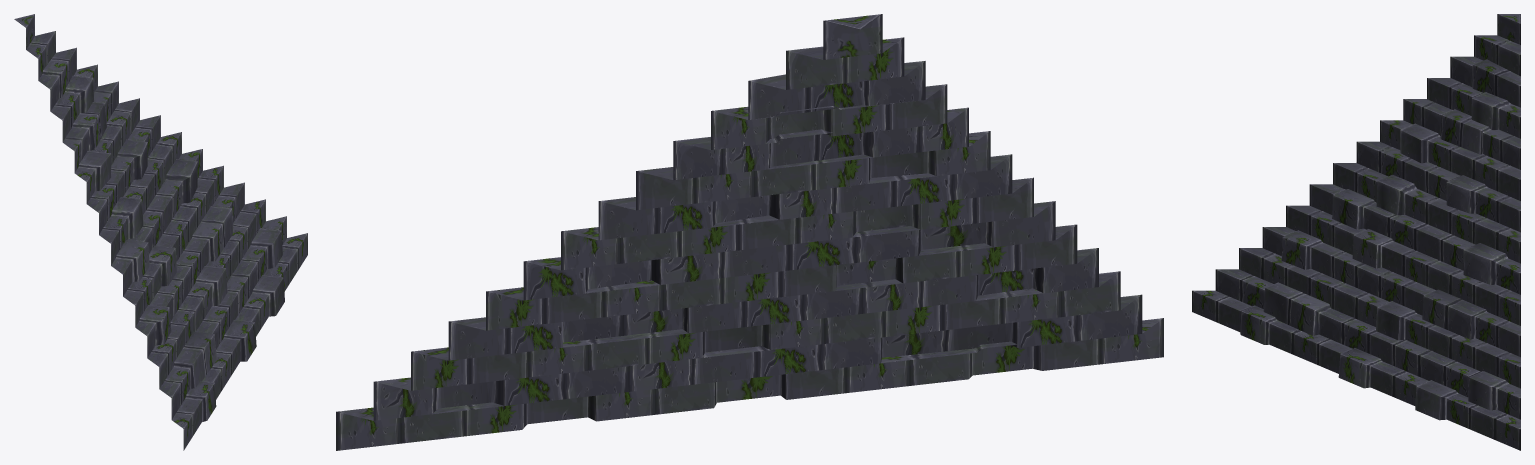
Rendered from MOD_Stairs_01_E_angle_convex_1.fbx.
3 views of the same model, side by side, from view 1: azimuth 30°, elevation 25°; view 2: azimuth 150°, elevation 25°; view 3: azimuth 270°, elevation 25° (orthographic). The views are drawn at different scales.
Visible parts, largest first — view 1: MOD_Stairs_01_E_angle_convex_1; view 2: MOD_Stairs_01_E_angle_convex_1; view 3: MOD_Stairs_01_E_angle_convex_1.
Boxes of the visible parts, left/top/right/bottom form: MOD_Stairs_01_E_angle_convex_1: left=14, top=14, right=307, bottom=450; MOD_Stairs_01_E_angle_convex_1: left=336, top=14, right=1163, bottom=450; MOD_Stairs_01_E_angle_convex_1: left=1192, top=14, right=1520, bottom=450.
Size of the model in its own units: 400 by 400 by 400.
